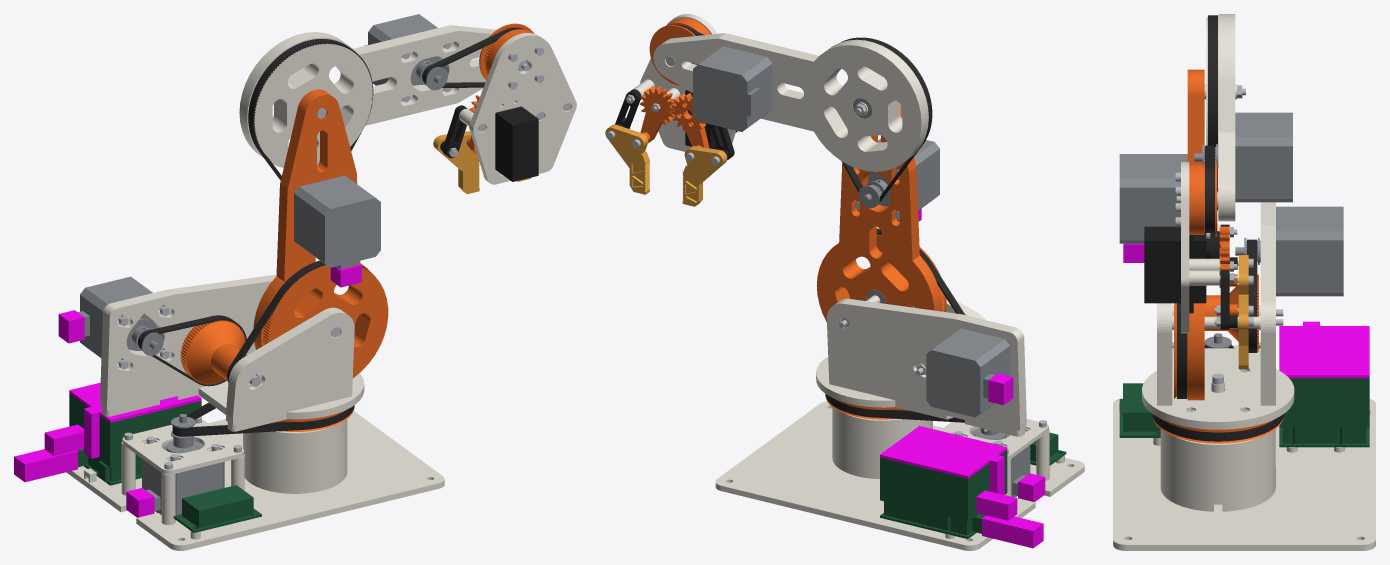
The model's file is assembly.glb.
3 views of the same model, side by side, from view 1: azimuth 30°, elevation 25°; view 2: azimuth 150°, elevation 25°; view 3: azimuth 270°, elevation 25° (orthographic). The views are drawn at different scales.
Visible parts, largest first — view 1: turret, base, upper-shank, lower-shank, gripper-base, elbow-motor, uno-usb-keepout, uno-cnc-shield, sh-compound, yaw-motor-plate, gripper-servo, shoulder-motor (+12 smaller); view 2: upper-shank, base, turret, lower-shank, uno-usb-keepout, uno-cnc-shield, wrist-motor, shoulder-motor, gripper-base, elbow-motor, jaw-b, jaw-a (+9 smaller); view 3: base, turret, shoulder-motor, uno-cnc-shield, wrist-motor, uno-usb-keepout, elbow-motor, upper-shank, gripper-servo, lower-shank, gripper-base, buck-converter (+14 smaller).
Boxes of the visible parts, <box> form: turret: <box>100,274,364,431</box>; base: <box>66,411,444,550</box>; upper-shank: <box>239,25,496,167</box>; lower-shank: <box>253,89,388,377</box>; gripper-base: <box>459,33,576,184</box>; elbow-motor: <box>294,175,380,269</box>; uno-usb-keepout: <box>14,382,201,482</box>; uno-cnc-shield: <box>69,393,201,485</box>; sh-compound: <box>180,320,247,384</box>; yaw-motor-plate: <box>122,420,243,474</box>; gripper-servo: <box>495,106,538,181</box>; shoulder-motor: <box>78,276,165,360</box>; upper-shank: <box>653,33,928,171</box>; base: <box>715,401,1084,550</box>; turret: <box>816,298,1026,436</box>; lower-shank: <box>816,105,946,322</box>; uno-usb-keepout: <box>880,426,1043,548</box>; uno-cnc-shield: <box>880,450,1007,538</box>; wrist-motor: <box>693,46,772,131</box>; shoulder-motor: <box>926,328,1009,417</box>; gripper-base: <box>632,14,735,151</box>; elbow-motor: <box>862,138,939,210</box>; jaw-b: <box>605,124,649,194</box>; jaw-a: <box>682,146,727,206</box>; base: <box>1113,398,1375,550</box>; turret: <box>1142,202,1294,429</box>; shoulder-motor: <box>1235,206,1343,296</box>; uno-cnc-shield: <box>1279,378,1369,447</box>; wrist-motor: <box>1194,112,1292,202</box>; uno-usb-keepout: <box>1279,321,1369,378</box>; elbow-motor: <box>1119,154,1187,243</box>; upper-shank: <box>1206,14,1235,221</box>; gripper-servo: <box>1144,226,1210,313</box>; lower-shank: <box>1174,69,1204,400</box>; gripper-base: <box>1181,162,1219,333</box>; buck-converter: <box>1119,383,1160,437</box>.
Size of the model in its own units: 0.37 by 0.3119 by 0.155.
